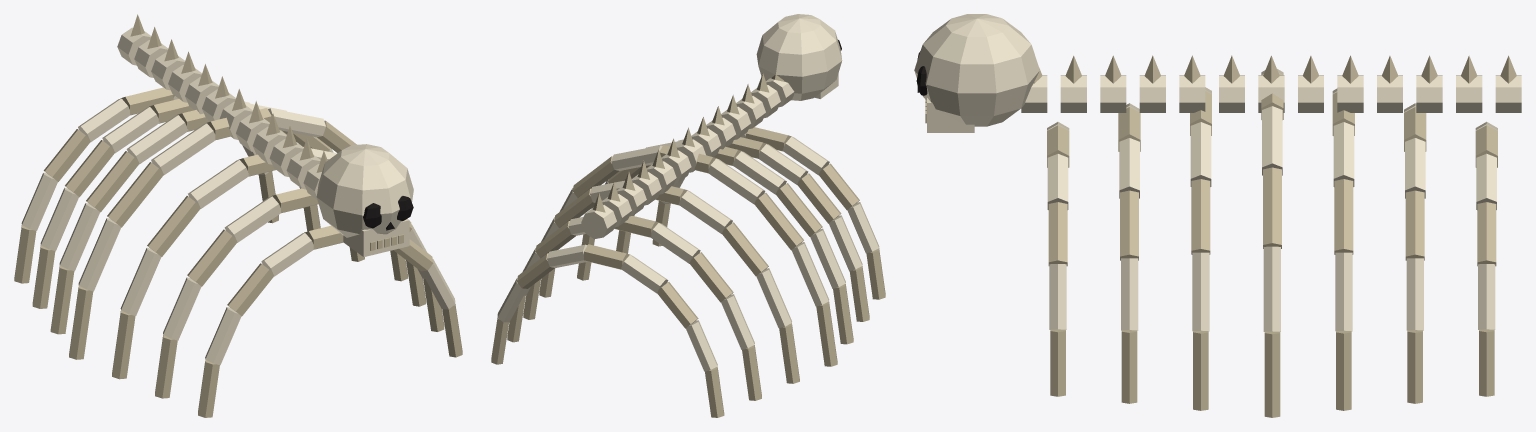
Rendered from RibcageArch.fbx.
The picture shows the model from 3 angles, left to right: view 1: azimuth 30°, elevation 25°; view 2: azimuth 150°, elevation 25°; view 3: azimuth 270°, elevation 25°; orthographic projection. The views are drawn at different scales.
Visible parts, largest first — view 1: RibcageArch; view 2: RibcageArch; view 3: RibcageArch.
Part boxes in pixels (x1=…): RibcageArch: x1=14, y1=14, x2=462, y2=417; RibcageArch: x1=491, y1=14, x2=885, y2=417; RibcageArch: x1=914, y1=14, x2=1521, y2=417.
Bounding box in the file's own units: 960 × 708 × 1276.
Materials: 1 (1 with a texture image).
